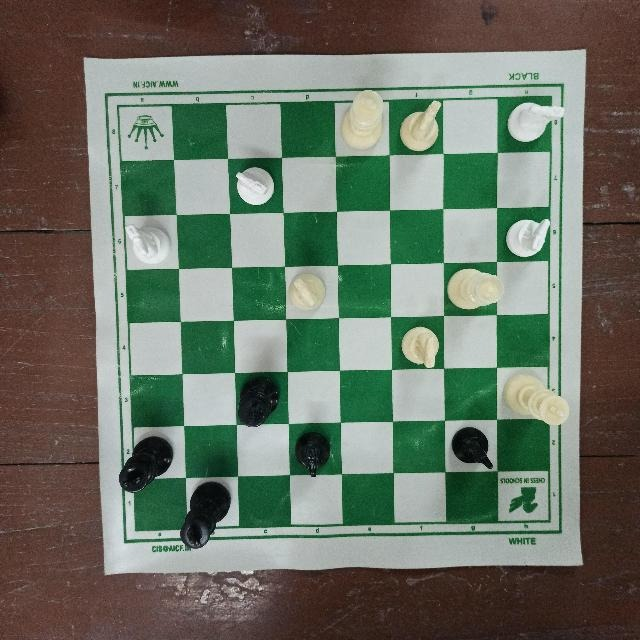black-king: (177, 479, 238, 552), (113, 429, 173, 501), (230, 373, 287, 434)
black-knight: (449, 422, 505, 478), (284, 428, 340, 476)
white-king: (494, 365, 571, 428), (336, 85, 392, 150)
white-knight: (501, 96, 571, 139), (118, 217, 176, 267), (227, 161, 283, 211), (283, 259, 332, 315), (397, 95, 445, 150), (396, 322, 446, 372), (509, 216, 551, 259)
white-queen: (444, 263, 505, 315)
